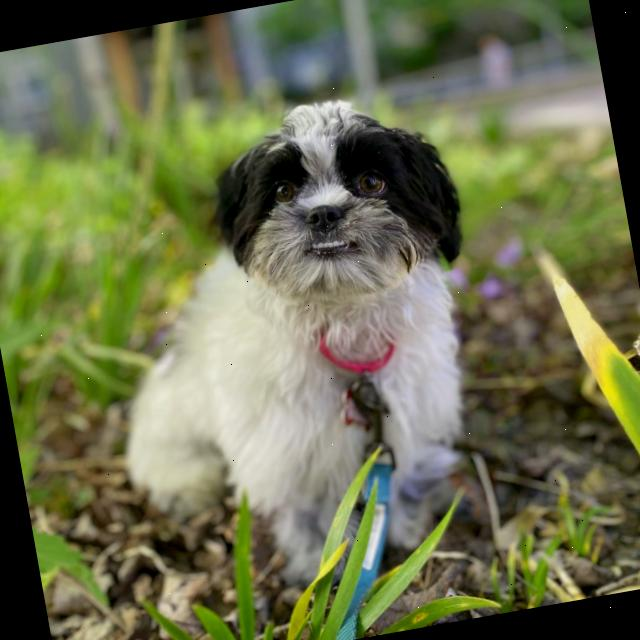shih_tzu_dog: (178, 56, 496, 362)
